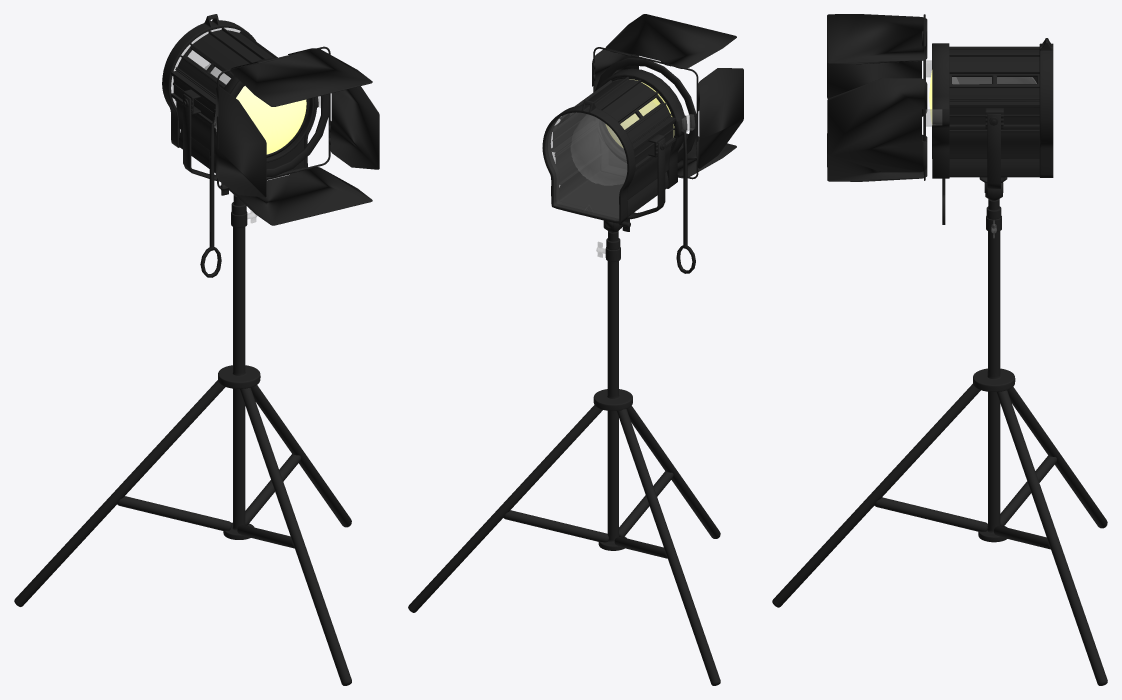
File: softLightStand-transformed.glb
3 views of the same model, side by side, from view 1: azimuth 30°, elevation 25°; view 2: azimuth 150°, elevation 25°; view 3: azimuth 270°, elevation 25° (orthographic). The views are drawn at different scales.
Parts seen in each view (by area): view 1: SoftLight_03, SoftLight_03.011, SoftLight_03.012; view 2: SoftLight_03, SoftLight_03.012, SoftLight_03.011; view 3: SoftLight_03, SoftLight_03.012.
Boxes of the visible parts, bbox=[...] form: SoftLight_03: bbox=[14, 14, 379, 685]; SoftLight_03.011: bbox=[236, 86, 306, 154]; SoftLight_03.012: bbox=[171, 28, 320, 222]; SoftLight_03: bbox=[408, 14, 743, 685]; SoftLight_03.012: bbox=[545, 79, 694, 257]; SoftLight_03.011: bbox=[606, 79, 674, 147]; SoftLight_03: bbox=[772, 14, 1107, 685]; SoftLight_03.012: bbox=[926, 60, 1036, 237].
Size of the model in its own units: 1.94 by 3.16 by 1.69.
